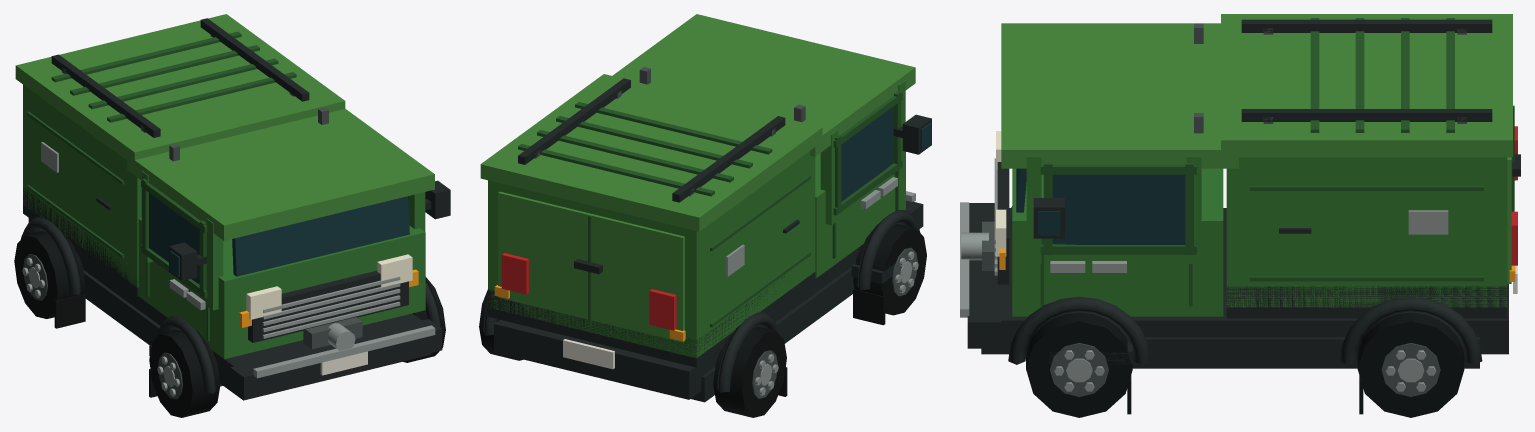
File: asset.glb
The picture shows the model from 3 angles, left to right: view 1: azimuth 30°, elevation 25°; view 2: azimuth 150°, elevation 25°; view 3: azimuth 270°, elevation 25°; orthographic projection. The views are drawn at different scales.
Parts seen in each view (by area): view 1: LowPolyCargoVan, FrontTire (×2), RearTire, FrontFenderArch (×2), RearFenderArch, FrontHub, RearHub; view 2: LowPolyCargoVan, RearTire (×2), FrontTire, RearFenderArch, FrontFenderArch, RearHub, FrontHub; view 3: LowPolyCargoVan, RearTire, FrontTire, RearFenderArch, FrontFenderArch, FrontHub, RearHub.
Part boxes in pixels (box(x1,y1,x2,y2)): LowPolyCargoVan: box(15, 14, 450, 400); FrontTire (×2): box(149, 277, 445, 417); RearTire: box(14, 231, 85, 318); FrontFenderArch (×2): box(155, 280, 441, 393); RearFenderArch: box(20, 217, 81, 294); FrontHub: box(158, 352, 182, 399); RearHub: box(23, 254, 47, 300); LowPolyCargoVan: box(480, 14, 931, 402); RearTire (×2): box(479, 289, 786, 417); FrontTire: box(853, 224, 926, 315); RearFenderArch: box(717, 312, 780, 392); FrontFenderArch: box(857, 210, 920, 290); RearHub: box(752, 350, 777, 398); FrontHub: box(892, 247, 917, 296); LowPolyCargoVan: box(960, 14, 1520, 414); RearTire: box(1357, 312, 1464, 417); FrontTire: box(1026, 312, 1132, 417); RearFenderArch: box(1340, 296, 1482, 364); FrontFenderArch: box(1008, 296, 1150, 364); FrontHub: box(1050, 343, 1108, 396); RearHub: box(1381, 343, 1440, 396).
Bounding box in the file's own units: 3.32 × 2.62 × 4.84.
